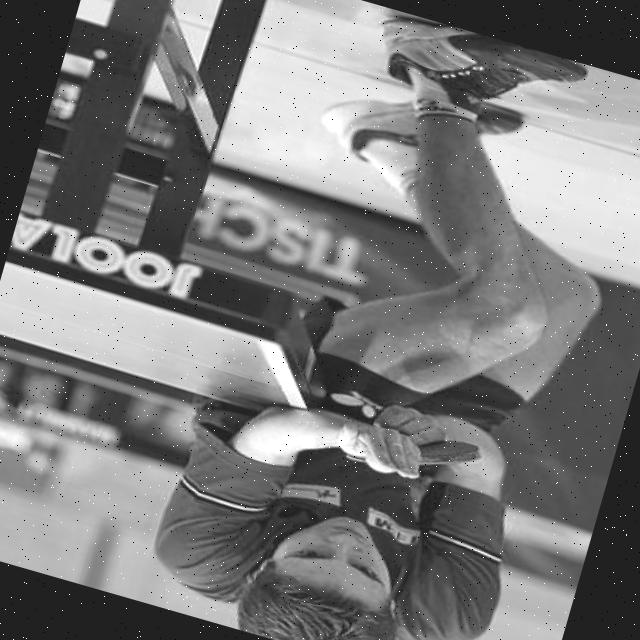ping-pong-ball: (361, 446, 402, 476)
